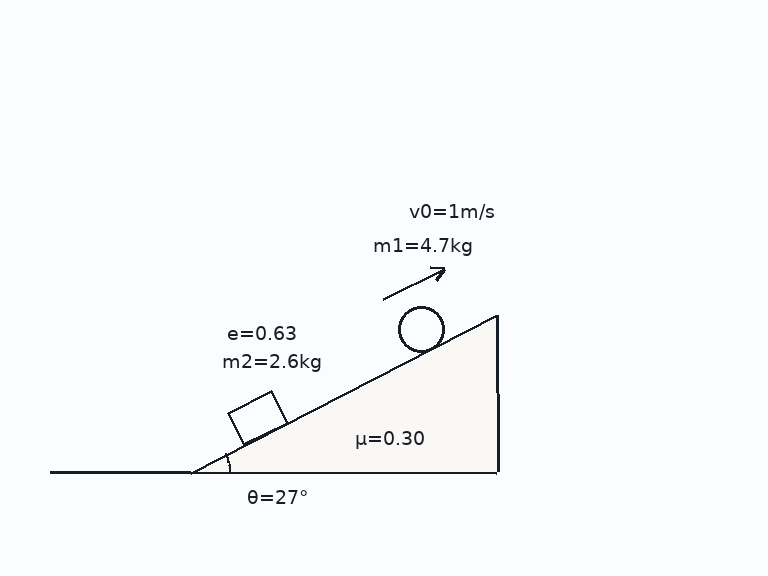ball: (396, 304, 446, 354)
block: (226, 389, 289, 447)
ramp: (188, 314, 499, 474)
